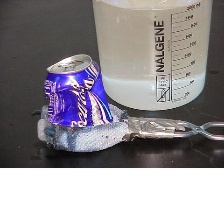can: (40, 51, 114, 131)
